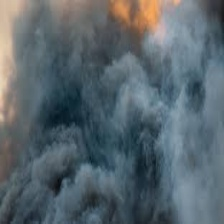smoke: (18, 6, 222, 224)
